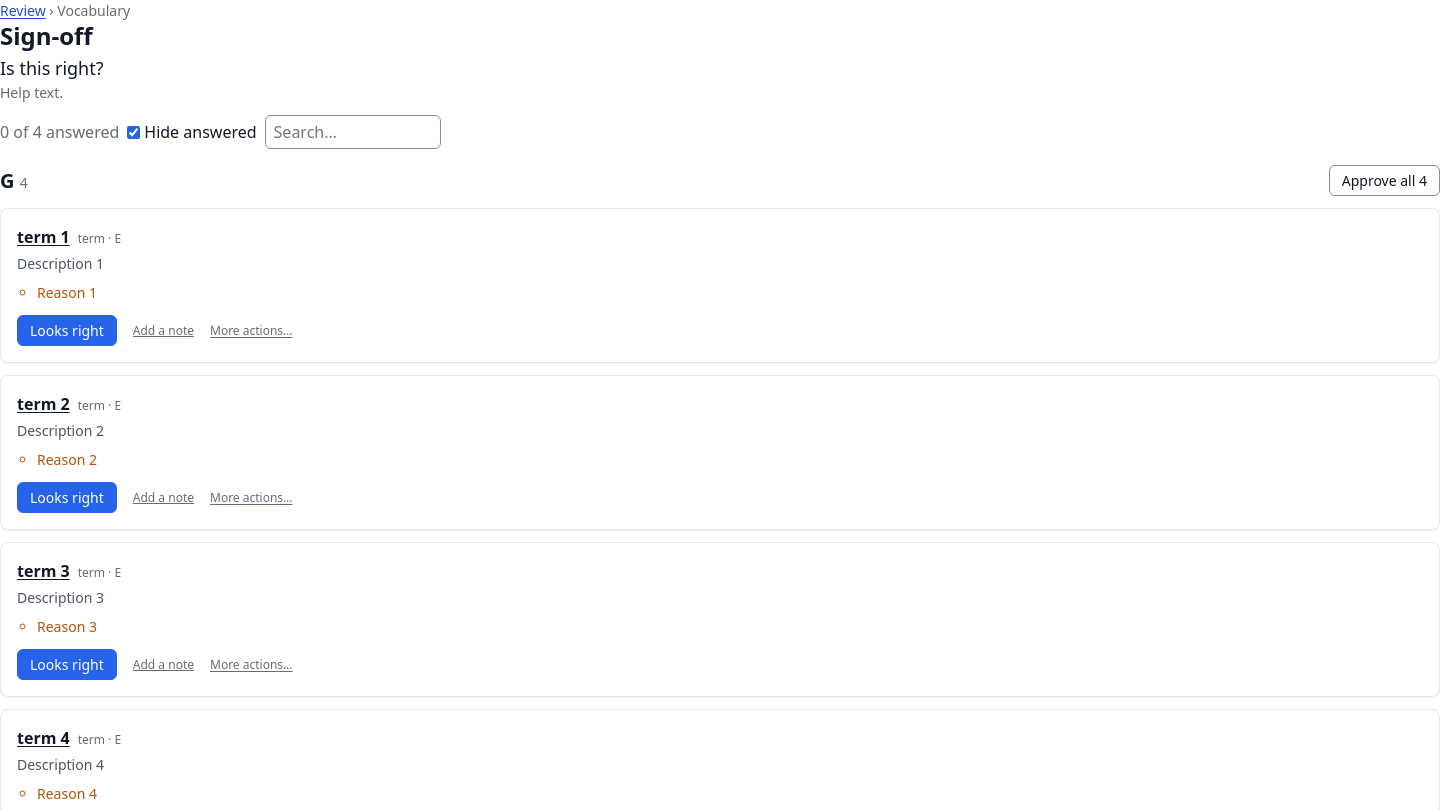
Test: review type page › approve all votes on each unanswered row in order and stops at the first failure
expect the link "term 1" is shown: met, box [17,226,70,248]
Click the button "Approve all 4": [1384, 180] box [1329,165,1439,196]
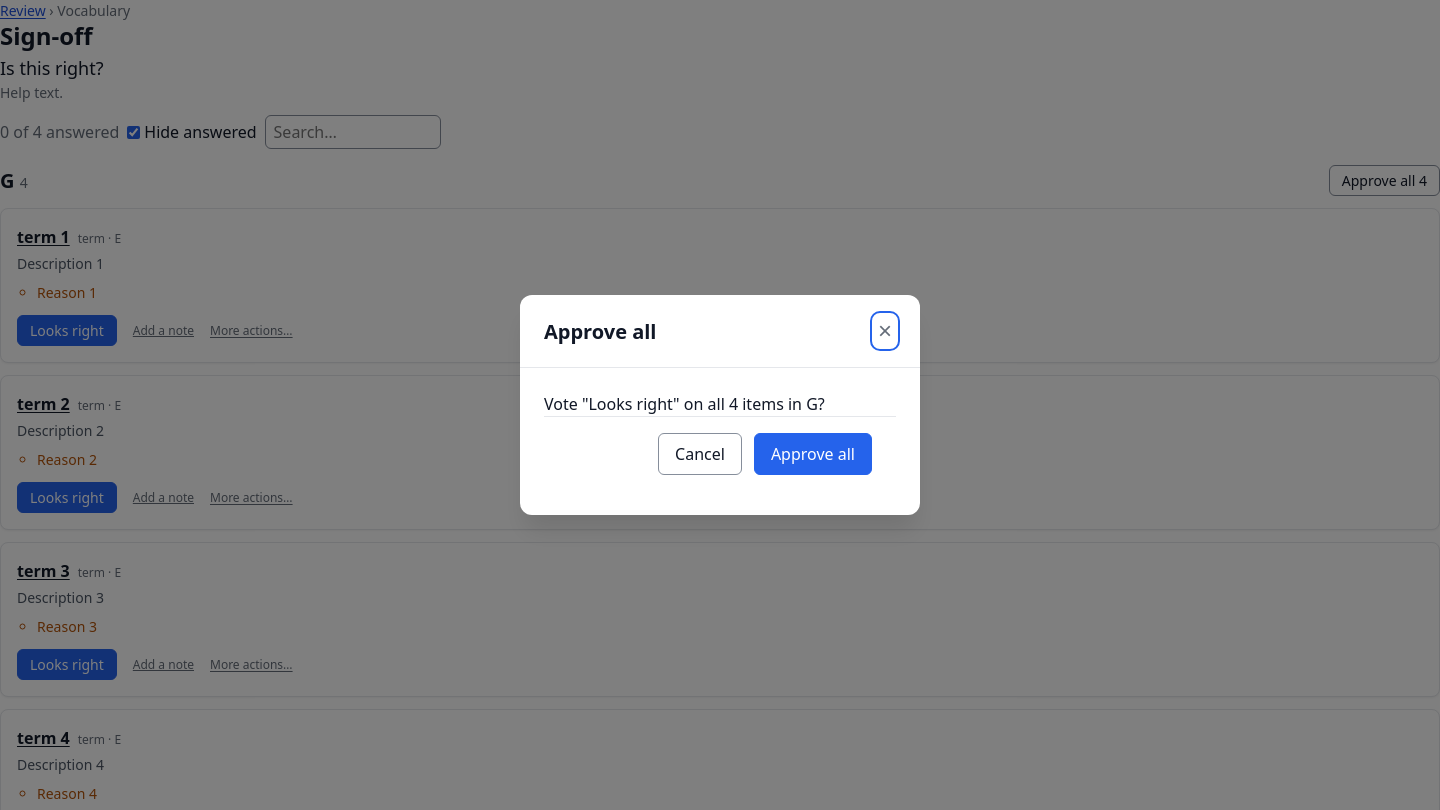
expect the dialog shows "Vote \"Looks right\" on all 4 items in G?": met, box [544,393,825,415]
Click the button "Approve all": [813, 454] box [754,433,872,475]
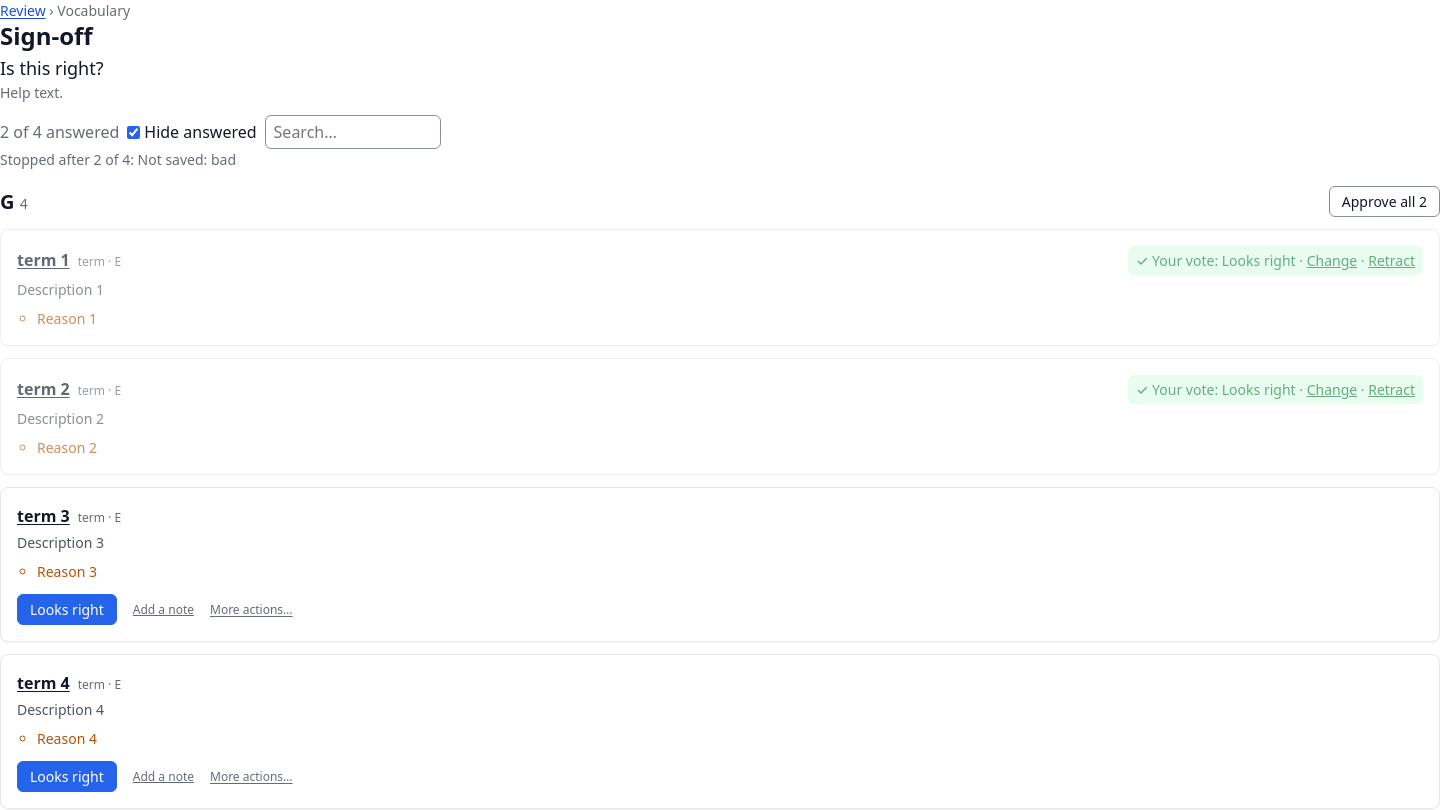
expect the text "Stopped after 2 of 4: Not saved: bad" is shown: met, box [0,150,236,169]
